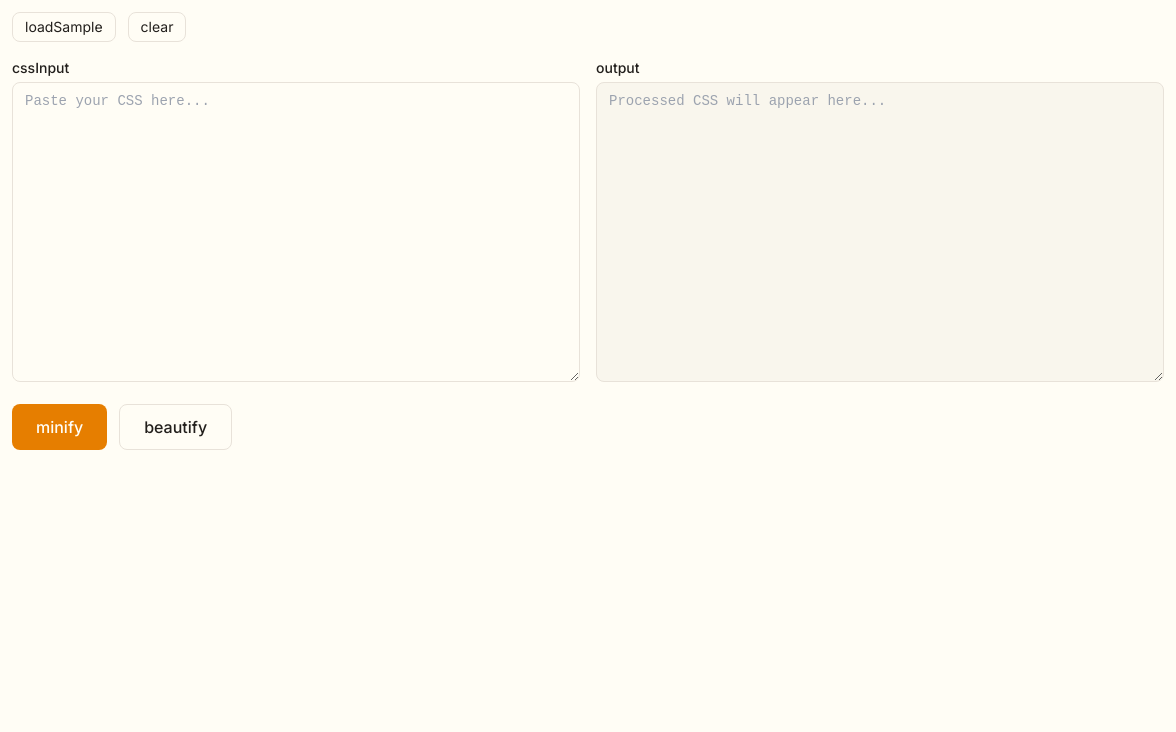
CssMinifier › shows error for empty input on beautify
Step 1. Click the button with aria-label "Beautify CSS" → (176,427), box 119,404 -> 232,450
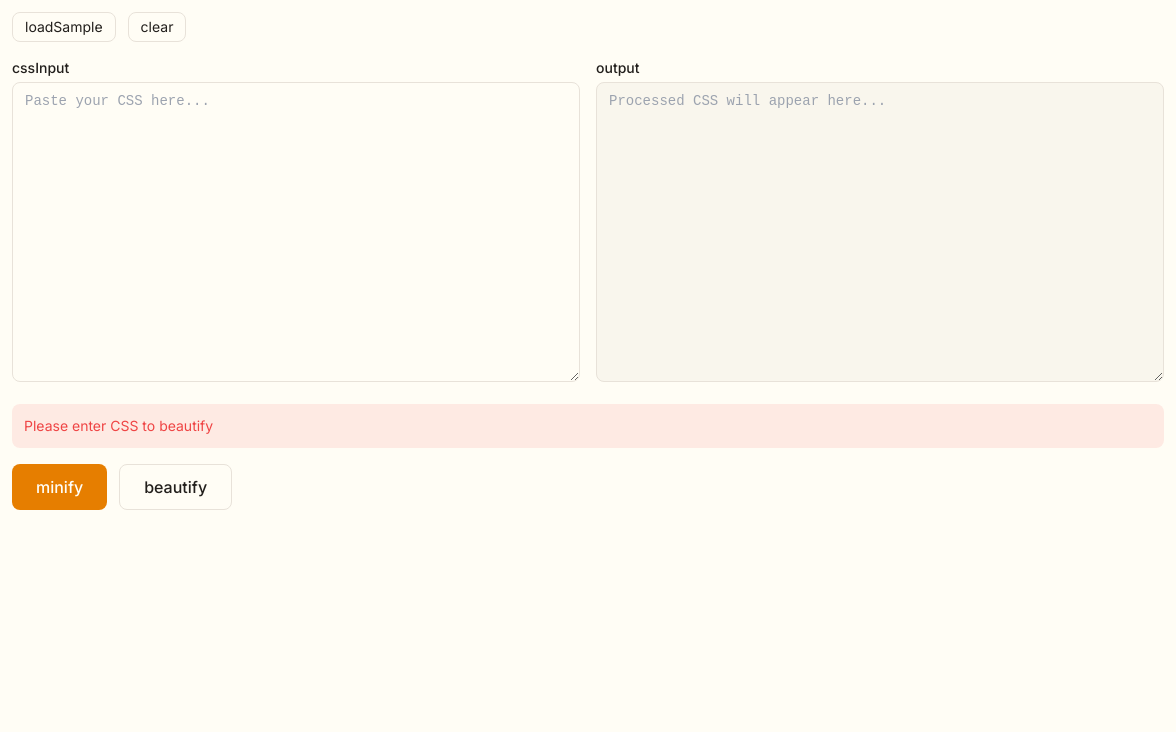
Expected: the text "Please enter CSS to beautify" is shown, 12,404 -> 1164,448
